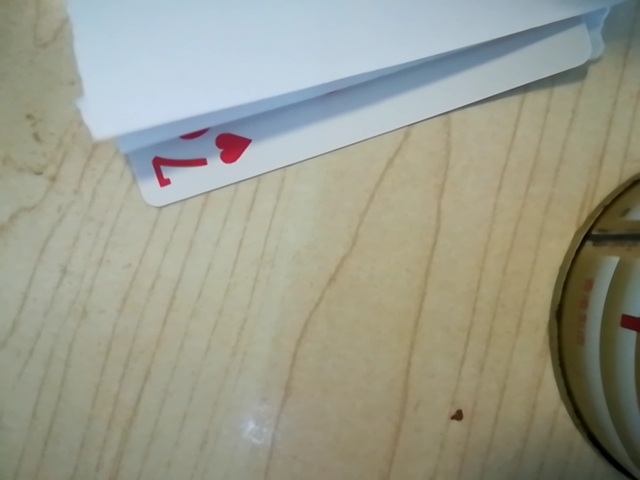hx 7: (137, 128, 259, 195)
